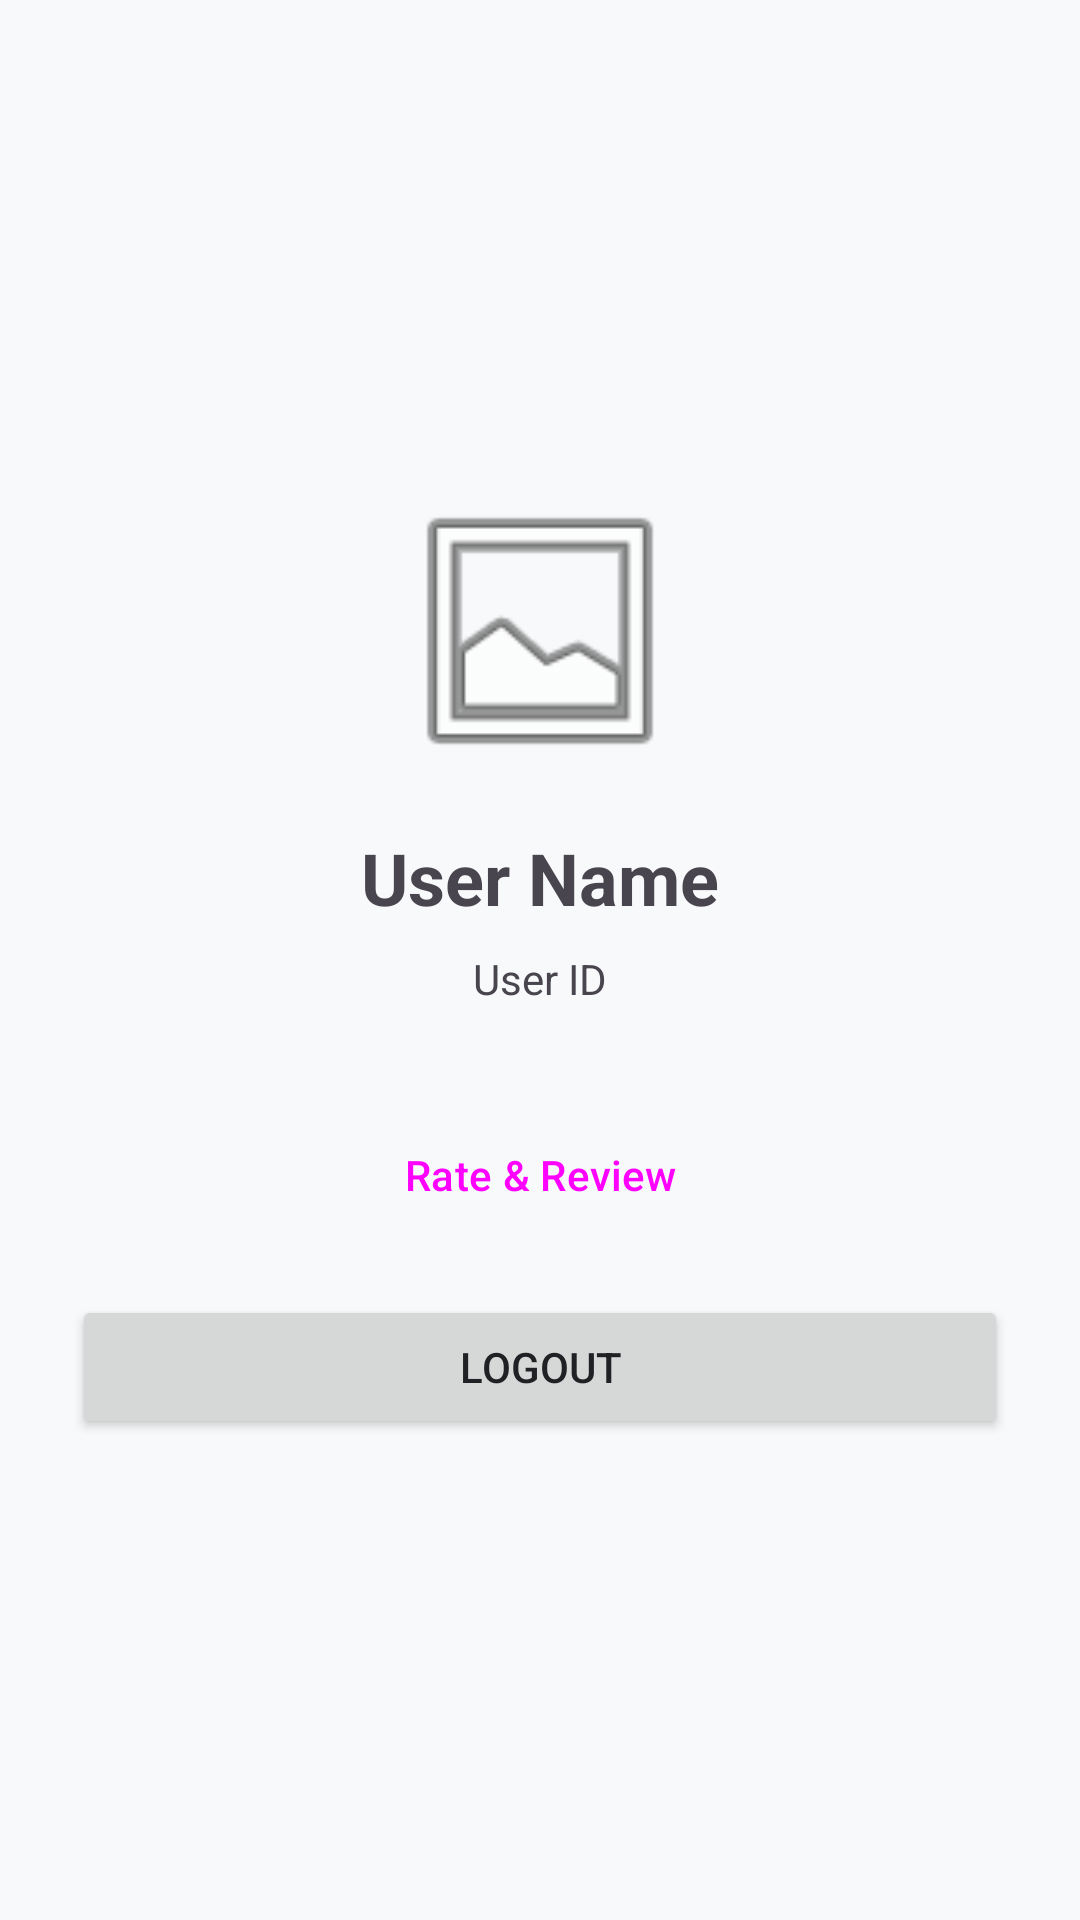

Where to tap for icons on this 1080*1920 app screen, as point (x, y):
gallery: point (540, 631)
